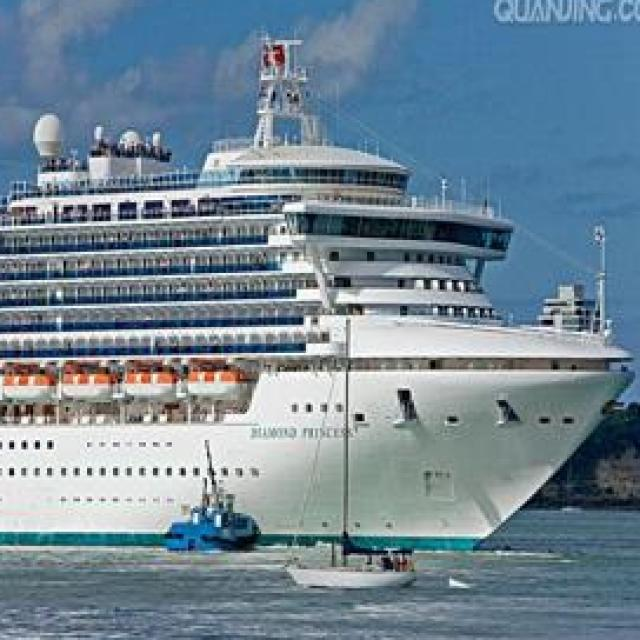passenger ship: (0, 75, 626, 546)
sailboat: (295, 310, 421, 594), (157, 438, 263, 553)
